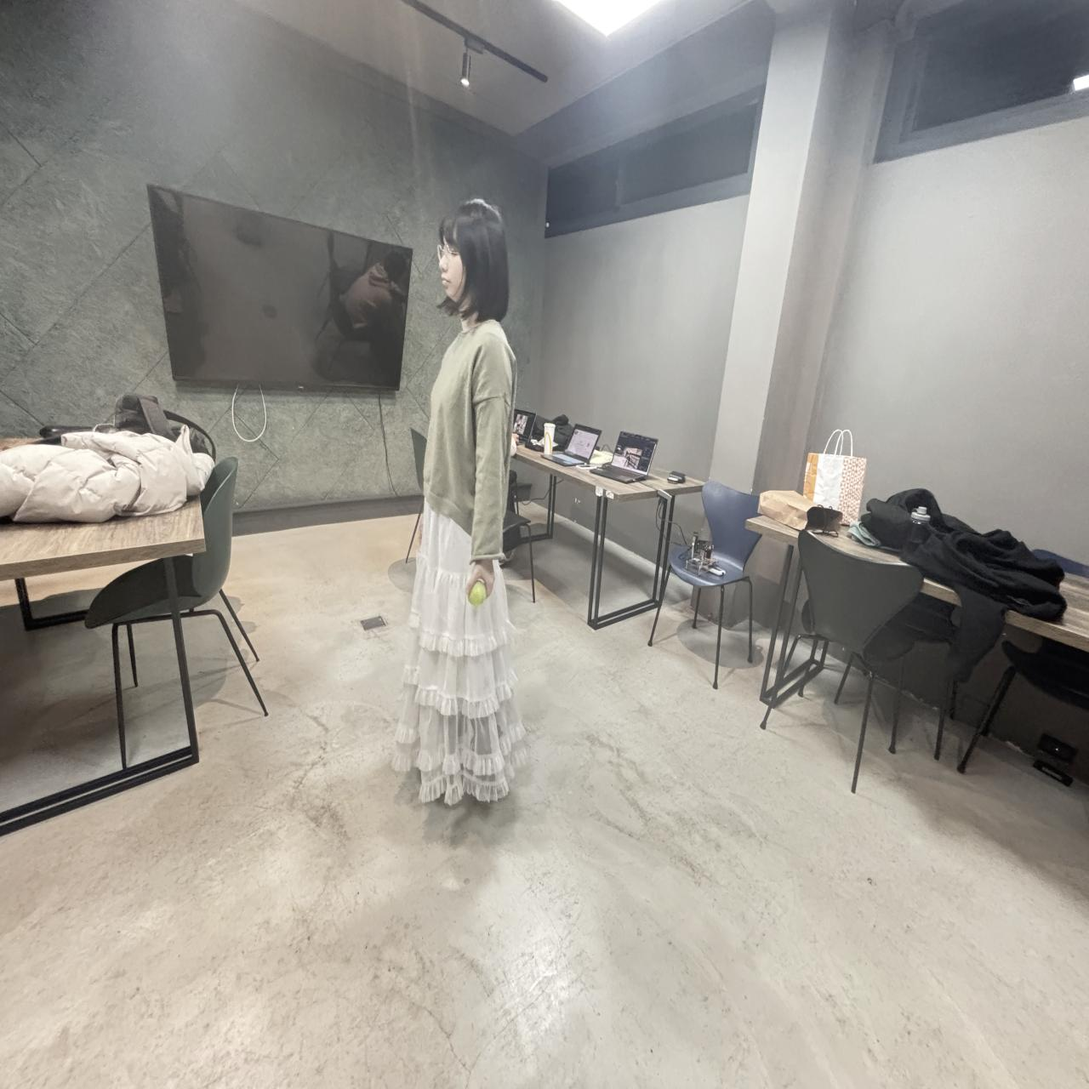person: (394, 200, 525, 804)
tennisball: (469, 581, 487, 607)
